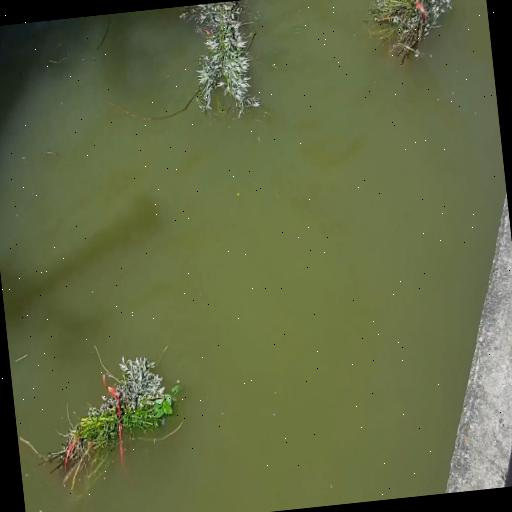twig: (29, 342, 191, 496), (105, 2, 264, 132), (362, 0, 457, 70)
